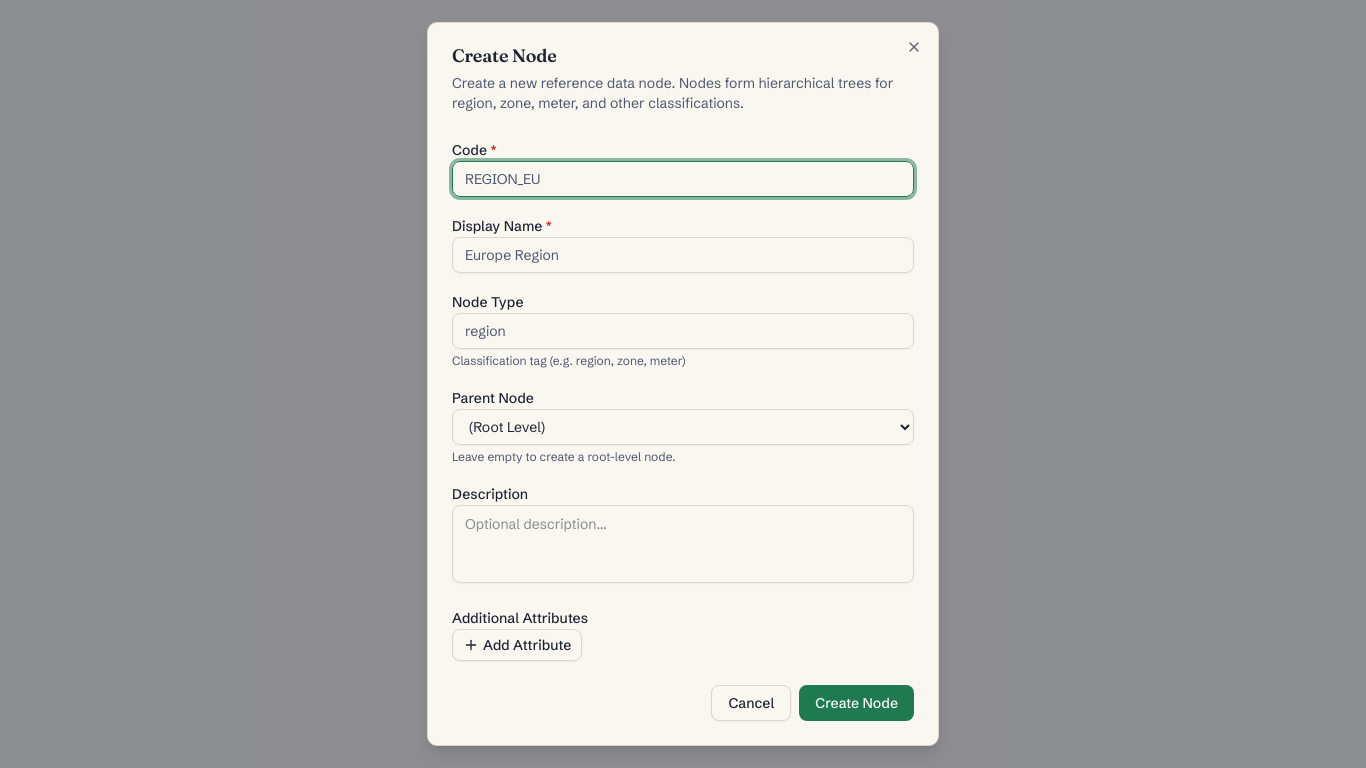
CreateNodeDialog - validation › shows error when code has invalid pattern - lowercase
The image size is (1366, 768).
Type "lowercase" into the field labelled "Code *" at (683, 179), box [452,161,914,197]
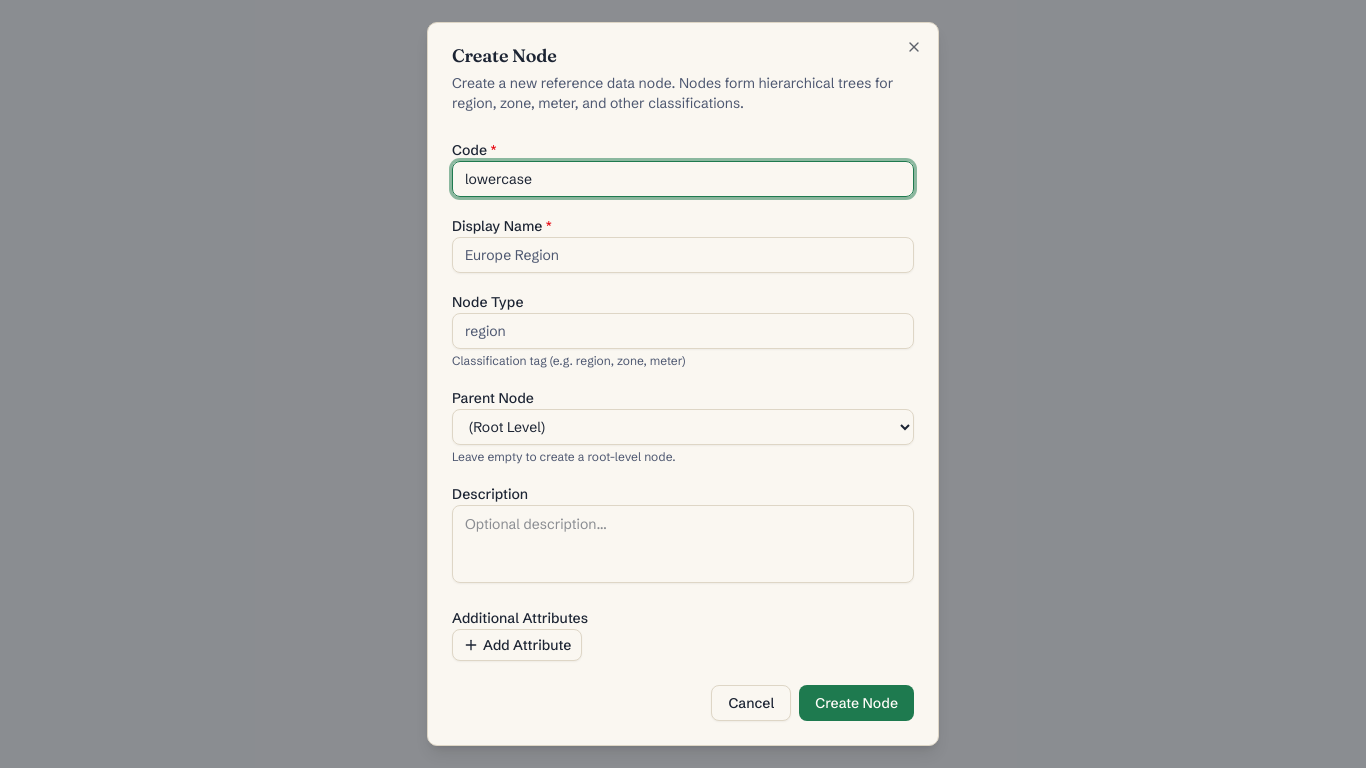
Click the button "Create Node" at (857, 703), box [799,685,914,721]
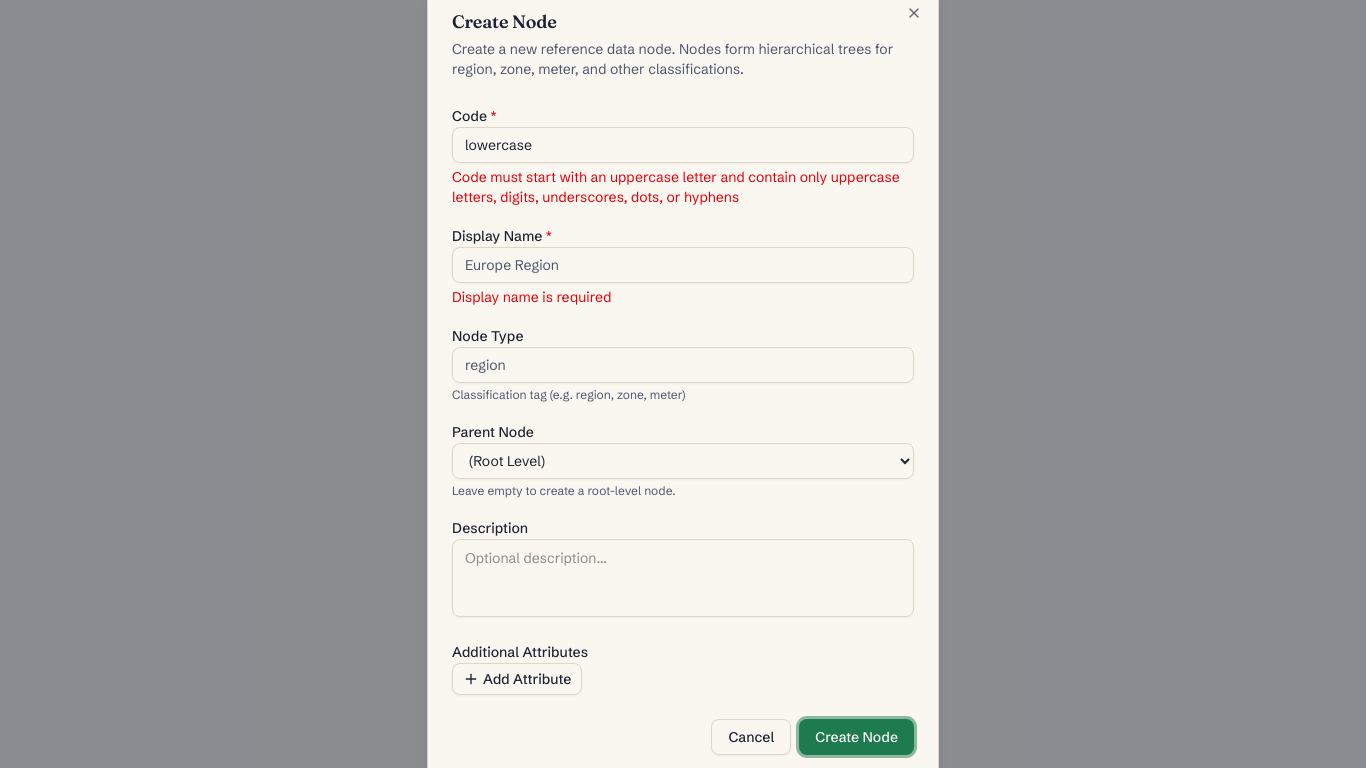
Check: the text "must start with an uppercase letter" is shown, box [452,168,900,206]
